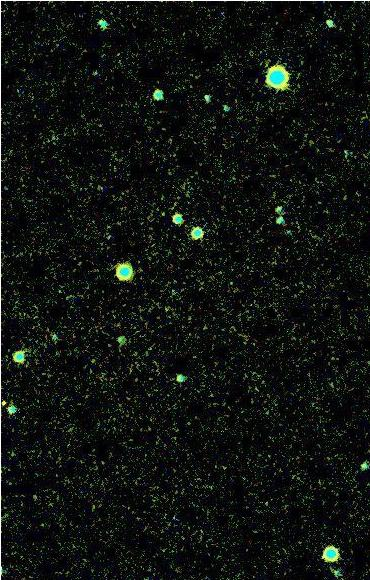star: (0, 388, 19, 418)
